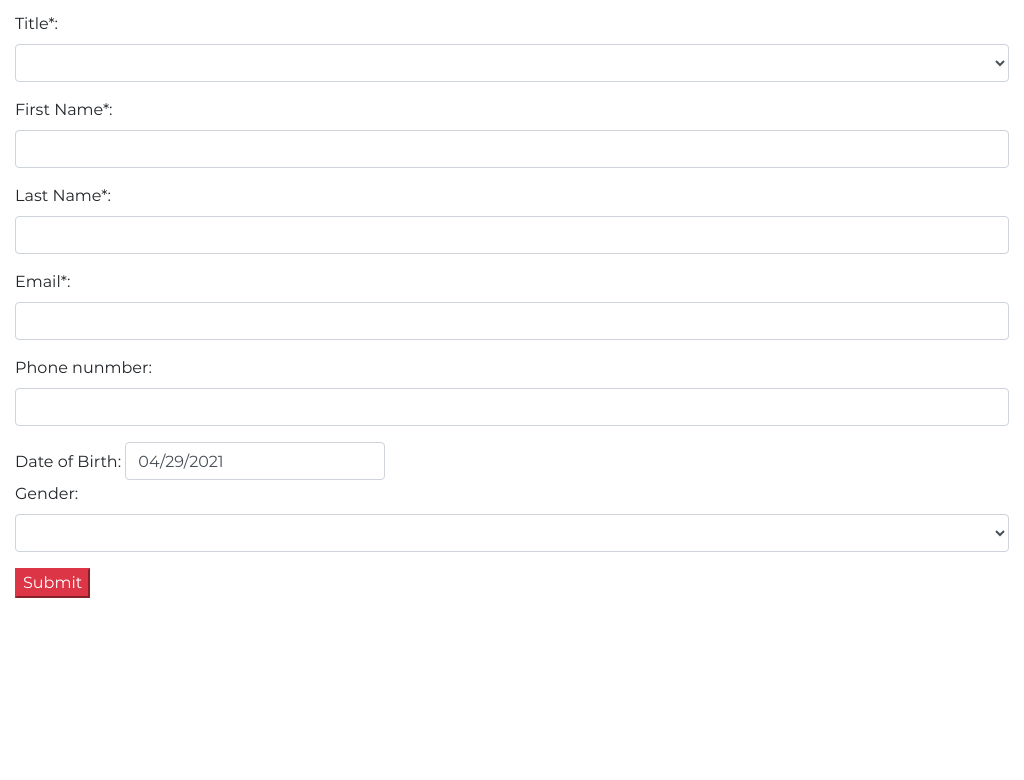
Test: TodoForm test suite › onChange event tests › should enable the submit button when the todo description is populated
Expected: the button "Submit" is disabled, [15,568,90,598]
Select "Test" in the dropdown below "Title*:" at (512, 63), box [15,44,1009,82]
Type "Test" into the field below "First Name*:" at (512, 149), box [15,130,1009,168]
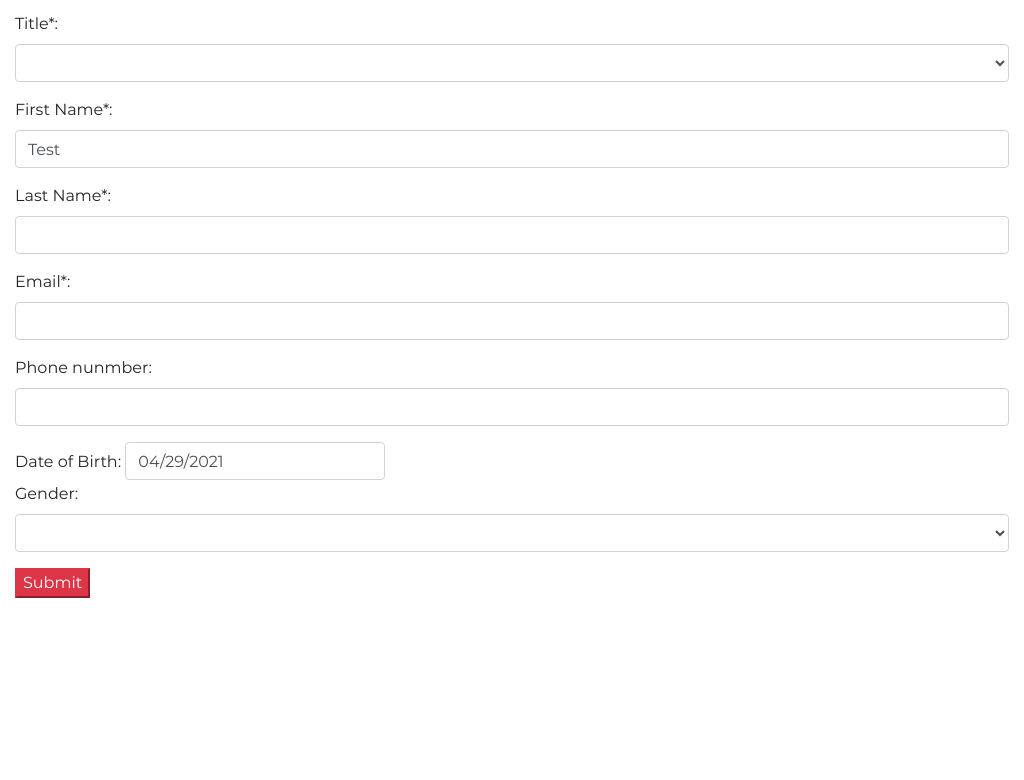
Type "Test" into the field below "Last Name*:" at (512, 235), box [15,216,1009,254]
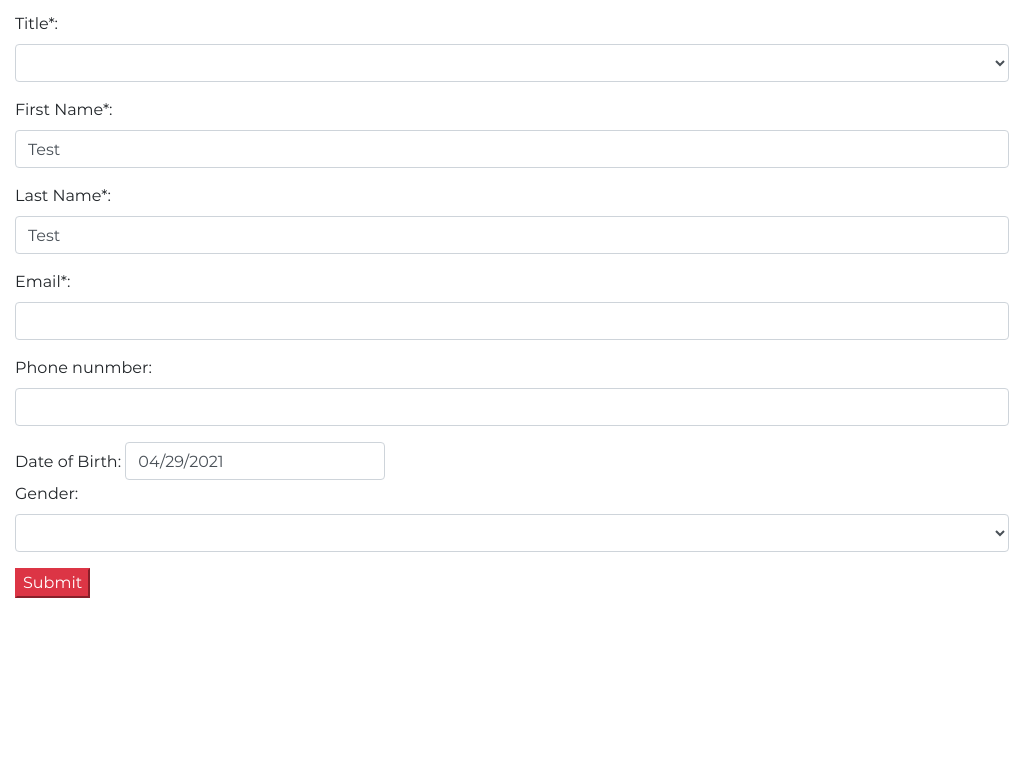
Type "Test" into the field below "Email*:" at (512, 321), box [15,302,1009,340]
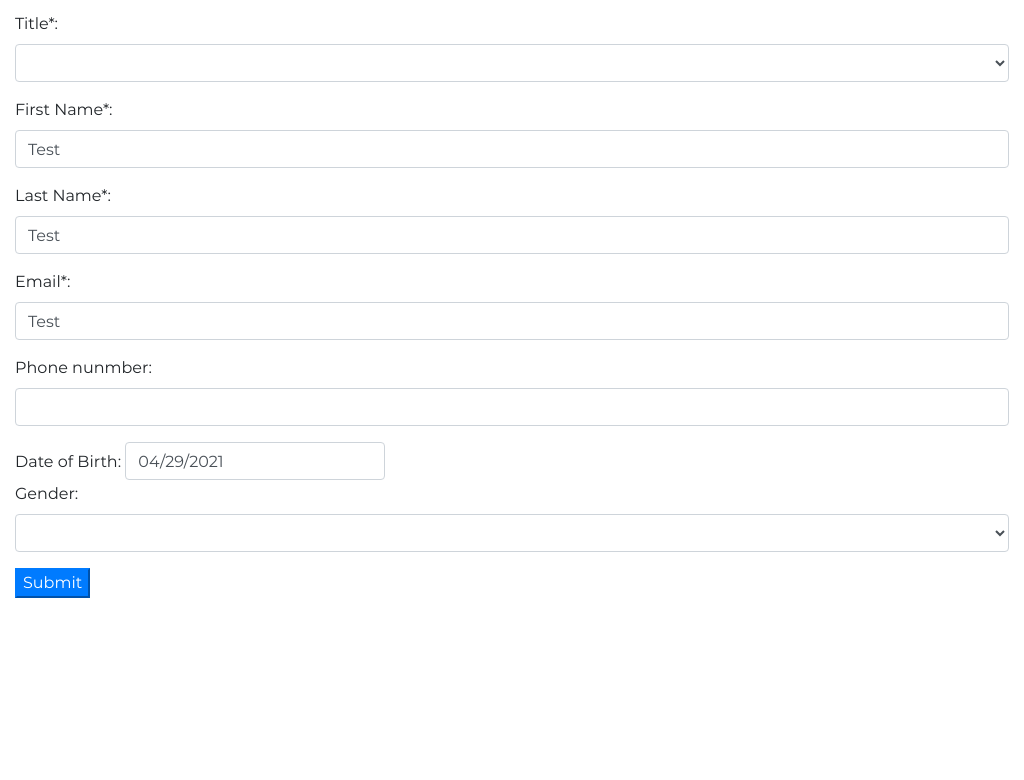
Expected: the button "Submit" is enabled, [15,568,90,598]
